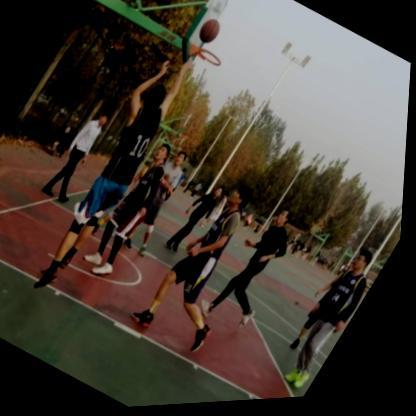basketball: (194, 17, 226, 50)
